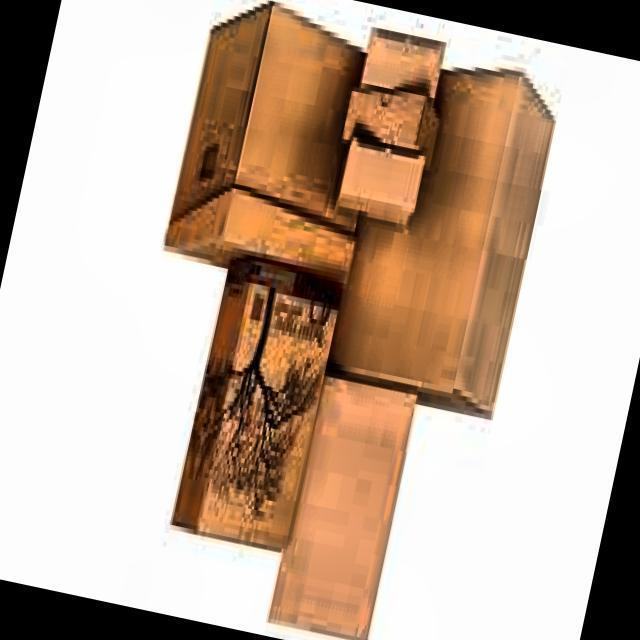cardboard: (321, 49, 563, 424), (159, 0, 400, 297), (165, 254, 344, 558), (264, 374, 419, 640)
